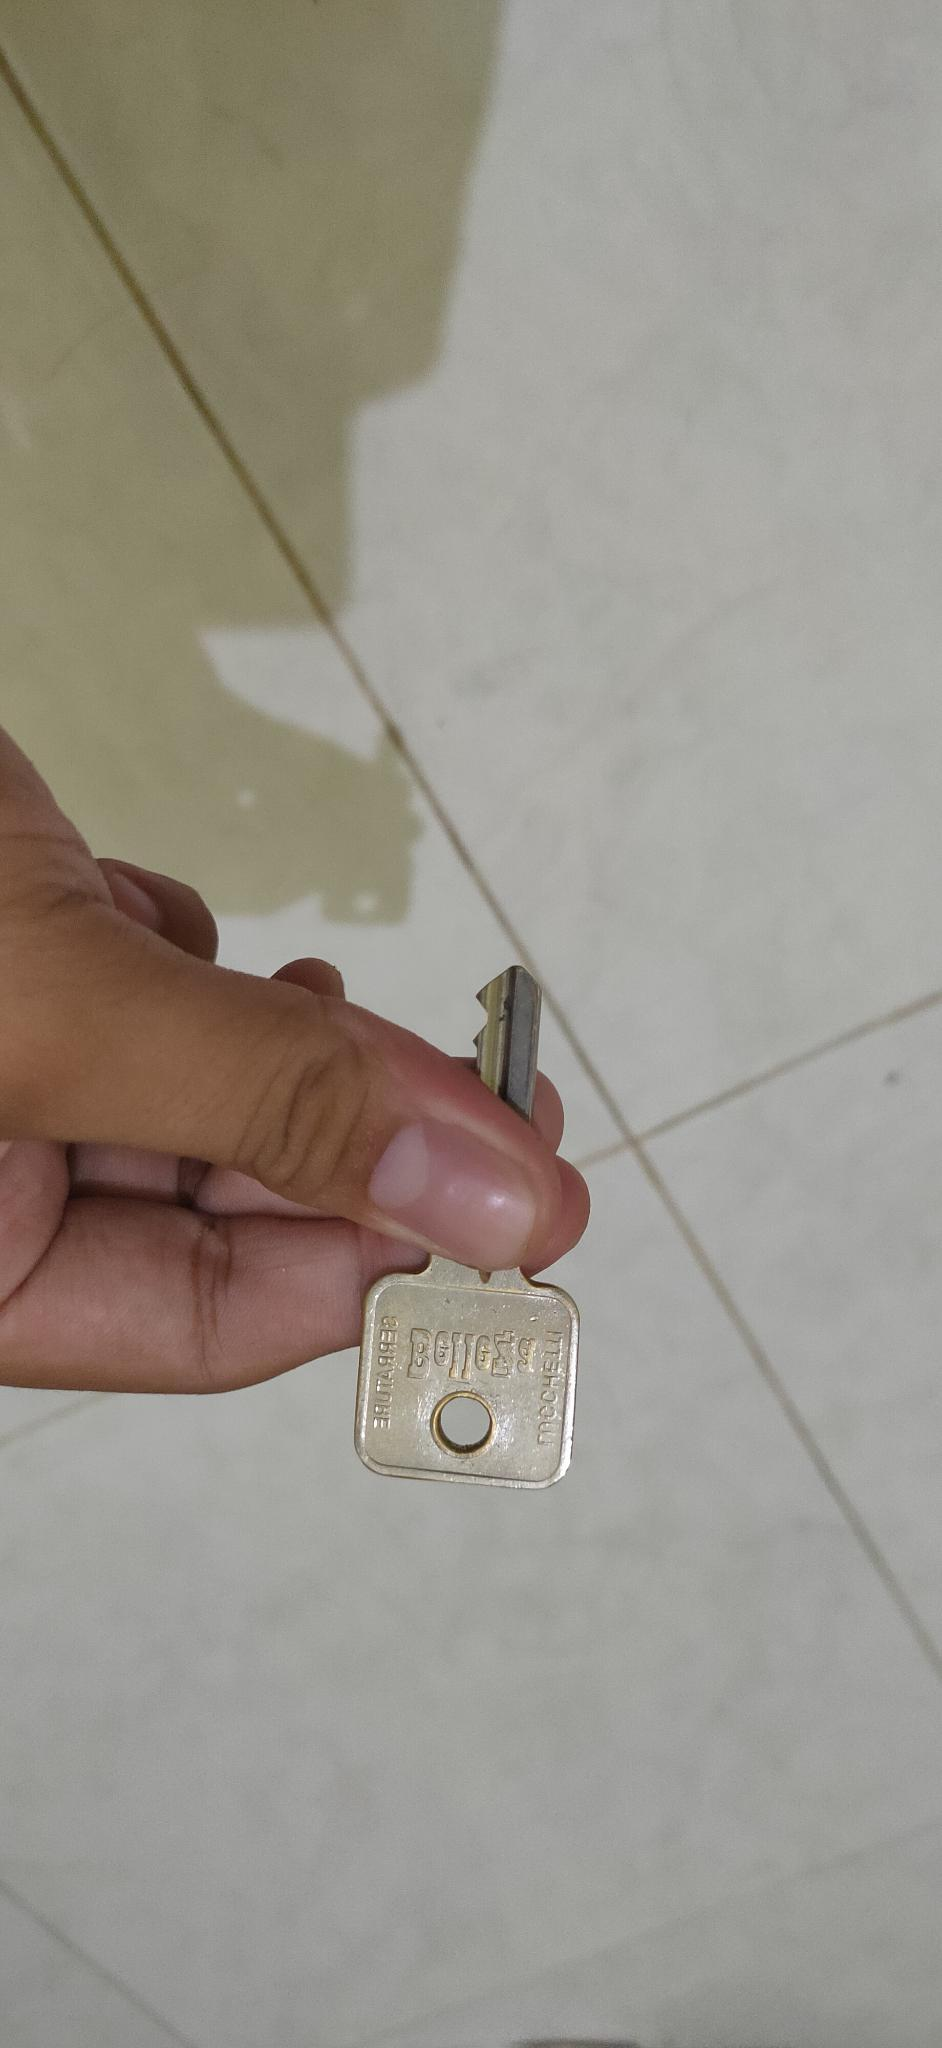keys: (345, 942, 605, 1529)
